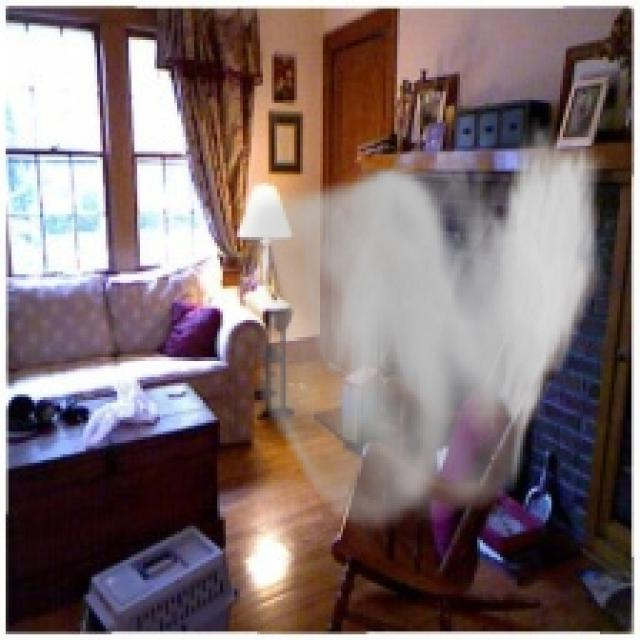smoke: (243, 117, 606, 543)
